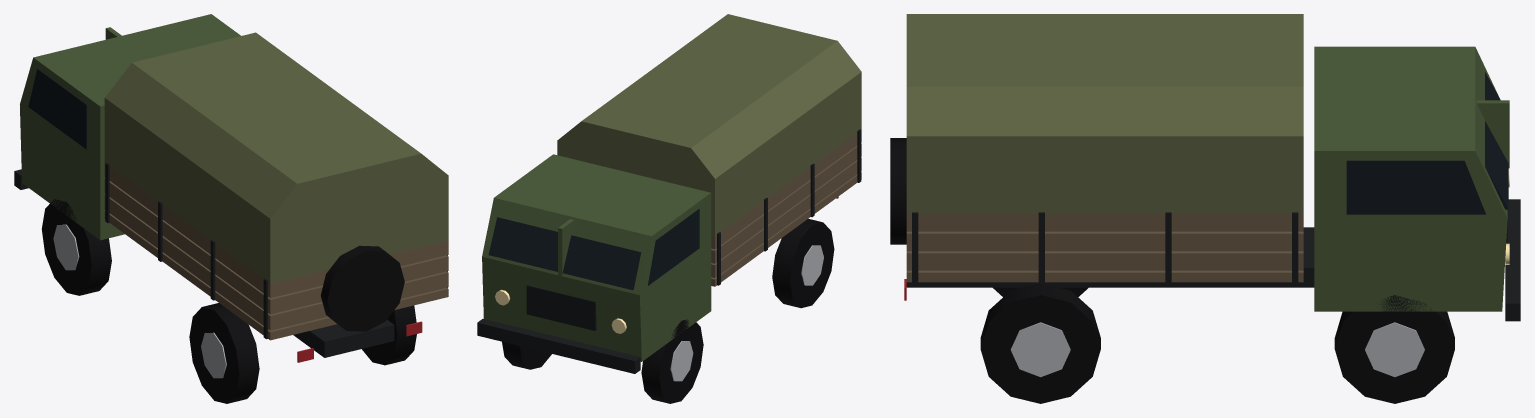
The model's file is car-army.glb.
3 views of the same model, side by side, from view 1: azimuth 30°, elevation 25°; view 2: azimuth 150°, elevation 25°; view 3: azimuth 270°, elevation 25° (orthographic). The views are drawn at different scales.
Parts seen in each view (by area): view 1: 08_#5e6444_r320, 04_#4a5a3a_r320, 01_#141416_r320, 07_#6a5a48_r320, 00_#1e2022_r320, 05_#1a2026_noshadow_r320, 02_#b8bcc0_noshadow_r110, 03_#a3262c_noshadow_r110; view 2: 08_#5e6444_r320, 04_#4a5a3a_r320, 05_#1a2026_noshadow_r320, 01_#141416_r320, 07_#6a5a48_r320, 00_#1e2022_r320, 02_#b8bcc0_noshadow_r110, 06_#ffe9b0_noshadow; view 3: 08_#5e6444_r320, 04_#4a5a3a_r320, 07_#6a5a48_r320, 01_#141416_r320, 05_#1a2026_noshadow_r320, 00_#1e2022_r320, 02_#b8bcc0_noshadow_r110.
Part boxes in pixels (x1=…): 08_#5e6444_r320: x1=104, y1=32, x2=448, y2=283; 04_#4a5a3a_r320: x1=20, y1=14, x2=240, y2=240; 01_#141416_r320: x1=41, y1=199, x2=416, y2=403; 07_#6a5a48_r320: x1=104, y1=163, x2=448, y2=340; 00_#1e2022_r320: x1=14, y1=162, x2=447, y2=357; 05_#1a2026_noshadow_r320: x1=28, y1=69, x2=86, y2=149; 02_#b8bcc0_noshadow_r110: x1=53, y1=224, x2=226, y2=378; 03_#a3262c_noshadow_r110: x1=297, y1=321, x2=422, y2=362; 08_#5e6444_r320: x1=557, y1=14, x2=861, y2=236; 04_#4a5a3a_r320: x1=482, y1=154, x2=711, y2=361; 05_#1a2026_noshadow_r320: x1=488, y1=208, x2=699, y2=290; 01_#141416_r320: x1=502, y1=218, x2=834, y2=403; 07_#6a5a48_r320: x1=711, y1=129, x2=861, y2=286; 00_#1e2022_r320: x1=477, y1=129, x2=861, y2=373; 02_#b8bcc0_noshadow_r110: x1=670, y1=245, x2=823, y2=381; 06_#ffe9b0_noshadow: x1=495, y1=289, x2=626, y2=333; 08_#5e6444_r320: x1=906, y1=14, x2=1303, y2=214; 04_#4a5a3a_r320: x1=1314, y1=46, x2=1509, y2=311; 07_#6a5a48_r320: x1=906, y1=214, x2=1303, y2=282; 01_#141416_r320: x1=890, y1=138, x2=1454, y2=403; 05_#1a2026_noshadow_r320: x1=1346, y1=72, x2=1508, y2=214; 00_#1e2022_r320: x1=906, y1=199, x2=1520, y2=321; 02_#b8bcc0_noshadow_r110: x1=1010, y1=322, x2=1424, y2=377.
Bounding box in the file's own units: 2.35 × 3.1 × 5.87.
